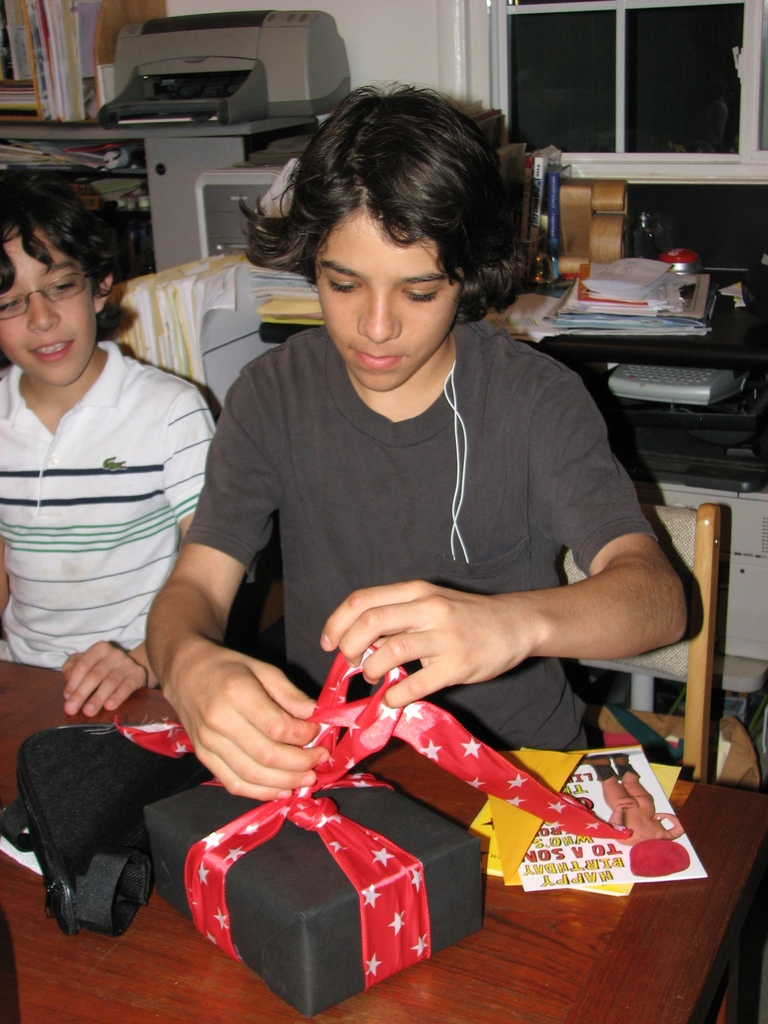Human_hand: (161, 645, 334, 808), (320, 579, 532, 708), (51, 641, 145, 734)
